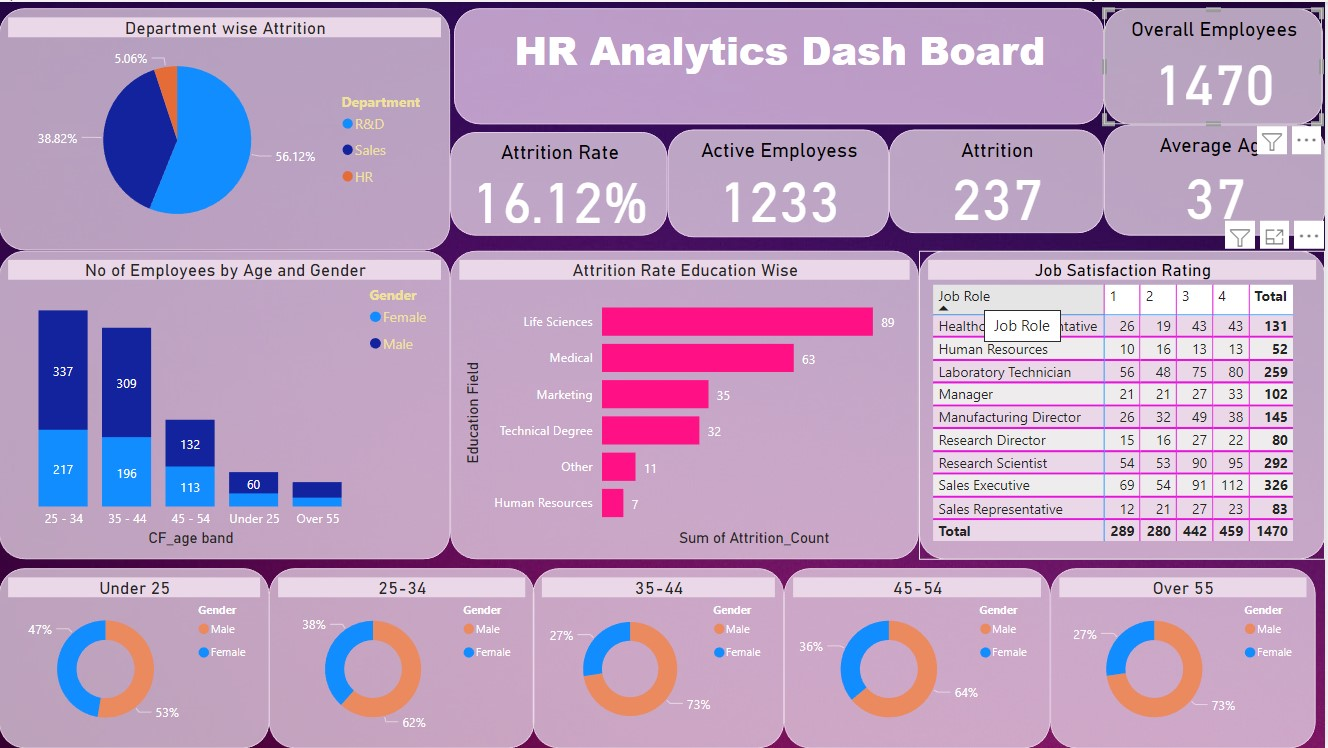

The page's visual inventory and layout, read from the dashboard file:
{"tool":"powerbi","page":{"name":"Page 1","canvas":[1280,720],"ordinal":0},"visuals":[{"type":"card","title":"Overall Employees","fields":{"Values":["Sum(HR data.Employee Count)"]},"box":[1066.1,6,211.1,112.2],"z":0},{"type":"card","title":"Attrition","fields":{"Values":["Sum(HR data.Employee Count)"]},"box":[858.7,123,207.4,100.1],"z":1000},{"type":"card","title":"Attrition Rate","fields":{"Values":["HR data.Attrition Rate"]},"box":[435.4,125.4,209.8,100.1],"z":2000},{"type":"card","title":"Active Employess","fields":{"Values":["Sum(HR data.Employee Count)"]},"box":[645.2,123,213.5,103.7],"z":3000},{"type":"card","title":"Average Age","fields":{"Values":["Avg(HR data.Age)"]},"box":[1066.1,118.2,213.5,107.3],"z":4000},{"type":"pieChart","title":"Department wise  Attrition","fields":{"Category":["HR data.Department"],"Y":["Sum(HR data.Attrition_Count)"]},"box":[0,6,435.4,234],"z":5000},{"type":"columnChart","title":"No of Employees by Age and Gender","fields":{"Category":["HR data.CF_age band"],"Y":["Sum(HR data.Employee Count)"],"Series":["HR data.Gender"]},"box":[0,240,435.4,297.9],"z":6000},{"type":"pivotTable","title":"Job Satisfaction Rating","fields":{"Rows":["HR data.Job Role"],"Columns":["HR data.Job Satisfaction"],"Values":["Sum(HR data.Employee Count)"]},"box":[887.6,240,392,297.9],"z":7000},{"type":"barChart","title":"Attrition Rate Education Wise","fields":{"Category":["HR data.Education Field"],"Y":["Sum(HR data.Attrition_Count)"]},"box":[435.4,240,452.3,297.9],"z":8000},{"type":"donutChart","title":"Under 25","fields":{"Category":["HR data.Gender"],"Y":["Sum(HR data.Attrition_Count)"],"Series":["HR data.CF_age band"]},"box":[0,546.3,260.5,173.7],"z":9000},{"type":"donutChart","title":"25-34","fields":{"Category":["HR data.Gender"],"Y":["Sum(HR data.Attrition_Count)"],"Series":["HR data.CF_age band"]},"box":[260.5,546.3,255.7,173.7],"z":10000},{"type":"donutChart","title":"45-54","fields":{"Category":["HR data.Gender"],"Y":["Sum(HR data.Attrition_Count)"],"Series":["HR data.CF_age band"]},"box":[757.4,546.3,256.9,173.7],"z":11000},{"type":"donutChart","title":"35-44","fields":{"Category":["HR data.Gender"],"Y":["Sum(HR data.Attrition_Count)"],"Series":["HR data.CF_age band"]},"box":[515,546.3,242.4,173.7],"z":12000},{"type":"donutChart","title":"Over 55","fields":{"Category":["HR data.Gender"],"Y":["Sum(HR data.Attrition_Count)"],"Series":["HR data.CF_age band"]},"box":[1014.3,546.3,255.7,173.7],"z":13000},{"type":"textbox","box":[439,6,627.1,112.2],"z":14000}]}

Visuals, with their boxes in screenshot pixels (x1, y1, x2, y2), scaled from the page's 1280x720 canvas onto the 1328x748 screenshot:
"Overall Employees" card: (left=1106, top=6, right=1325, bottom=123)
"Attrition" card: (left=891, top=128, right=1106, bottom=232)
"Attrition Rate" card: (left=452, top=130, right=669, bottom=234)
"Active Employess" card: (left=669, top=128, right=891, bottom=236)
"Average Age" card: (left=1106, top=123, right=1327, bottom=234)
"Department wise  Attrition" pieChart: (left=0, top=6, right=452, bottom=249)
"No of Employees by Age and Gender" columnChart: (left=0, top=249, right=452, bottom=559)
"Job Satisfaction Rating" pivotTable: (left=921, top=249, right=1327, bottom=559)
"Attrition Rate Education Wise" barChart: (left=452, top=249, right=921, bottom=559)
"Under 25" donutChart: (left=0, top=568, right=270, bottom=747)
"25-34" donutChart: (left=270, top=568, right=536, bottom=747)
"45-54" donutChart: (left=786, top=568, right=1052, bottom=747)
"35-44" donutChart: (left=534, top=568, right=786, bottom=747)
"Over 55" donutChart: (left=1052, top=568, right=1318, bottom=747)
textbox: (left=455, top=6, right=1106, bottom=123)
